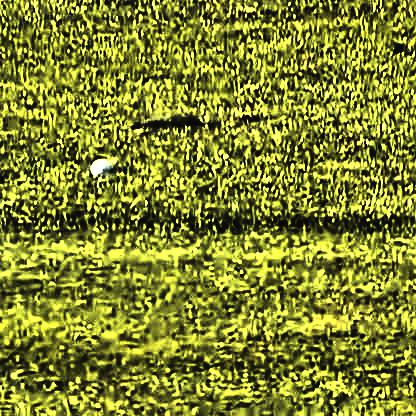golfball: (86, 156, 111, 180)
